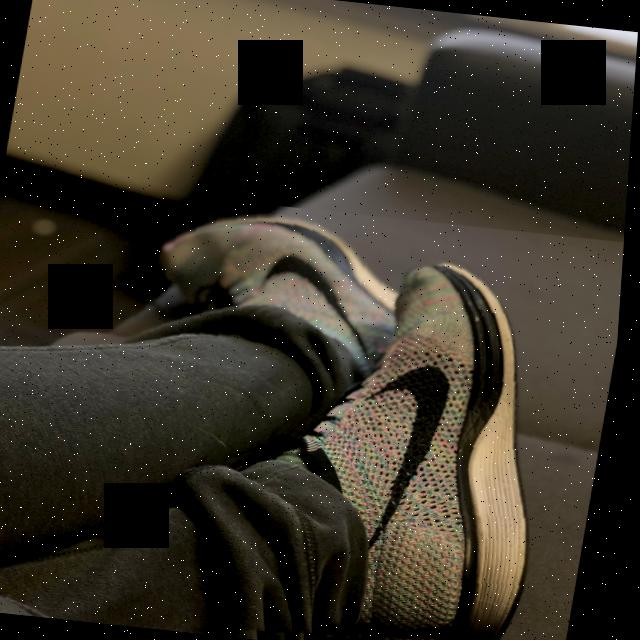shoe: (86, 192, 630, 640)
